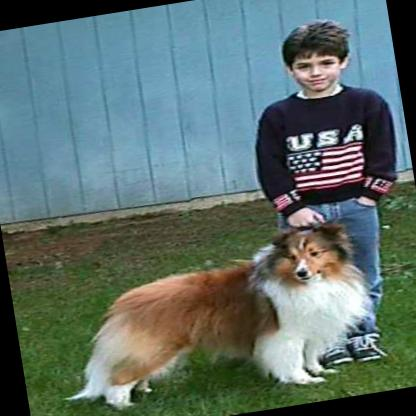Shetland_sheepdog: (34, 216, 384, 416)
